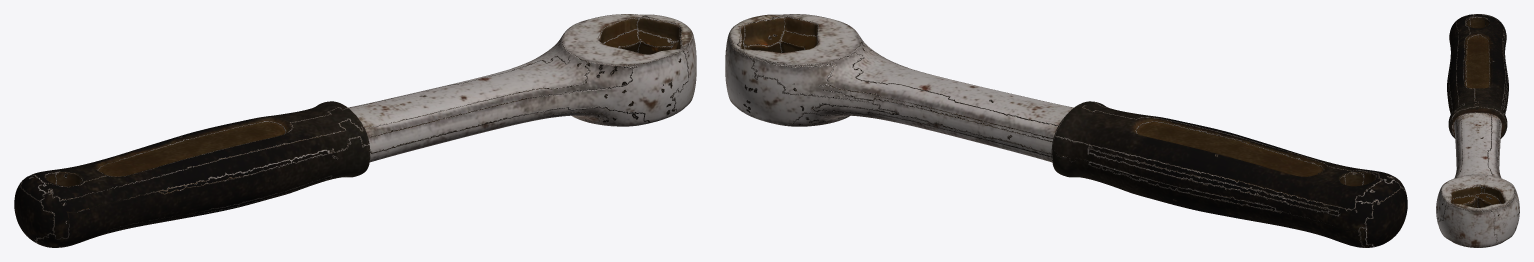
3 views of the same model, side by side, from view 1: azimuth 30°, elevation 25°; view 2: azimuth 150°, elevation 25°; view 3: azimuth 270°, elevation 25° (orthographic). The views are drawn at different scales.
Size of the model in its own units: 2 by 0.1857 by 0.351.
1 material, 1 textured.
